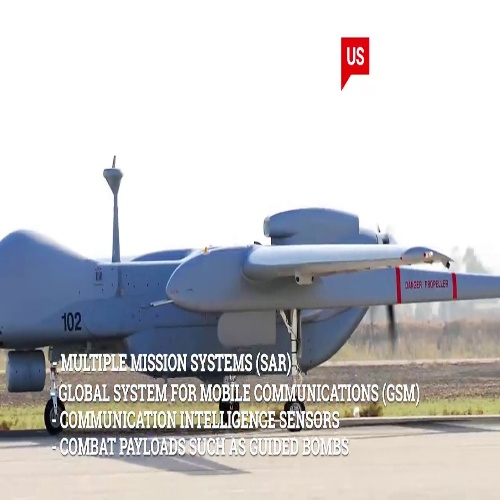uav: (1, 161, 496, 430)
